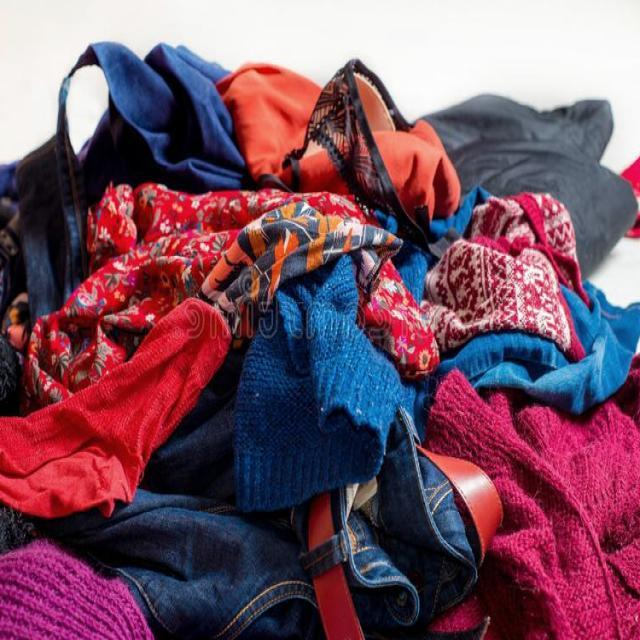clothes: (93, 190, 570, 578)
